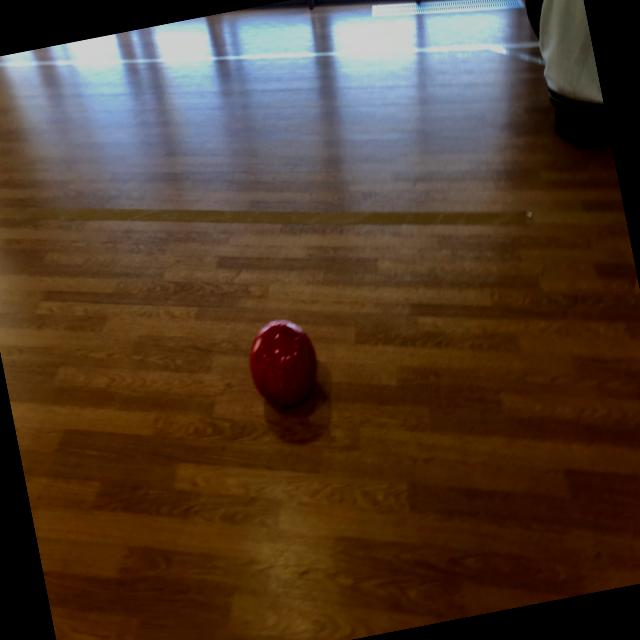red_ball: (243, 317, 325, 417)
